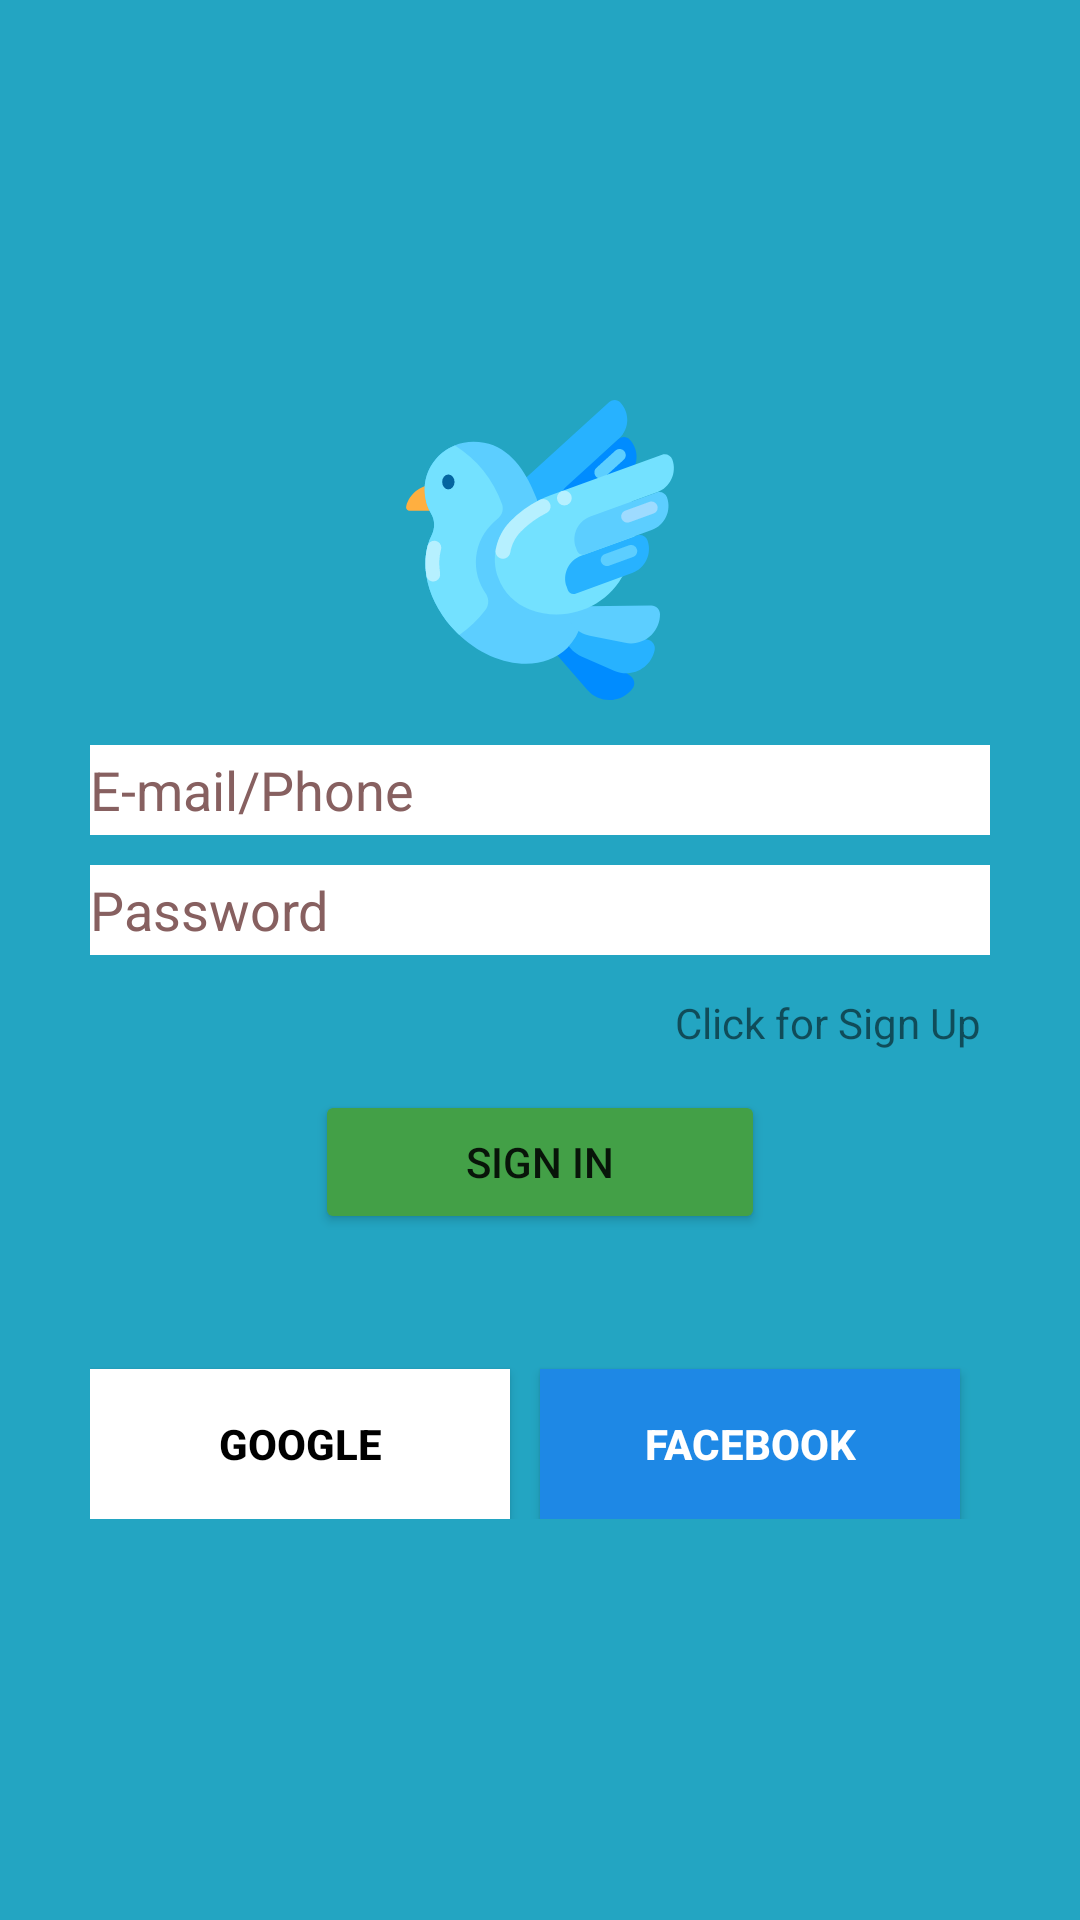

Screen size 1080×1920. Icon name, then its center in pixels as [x,y]:
dove: [540,550]
